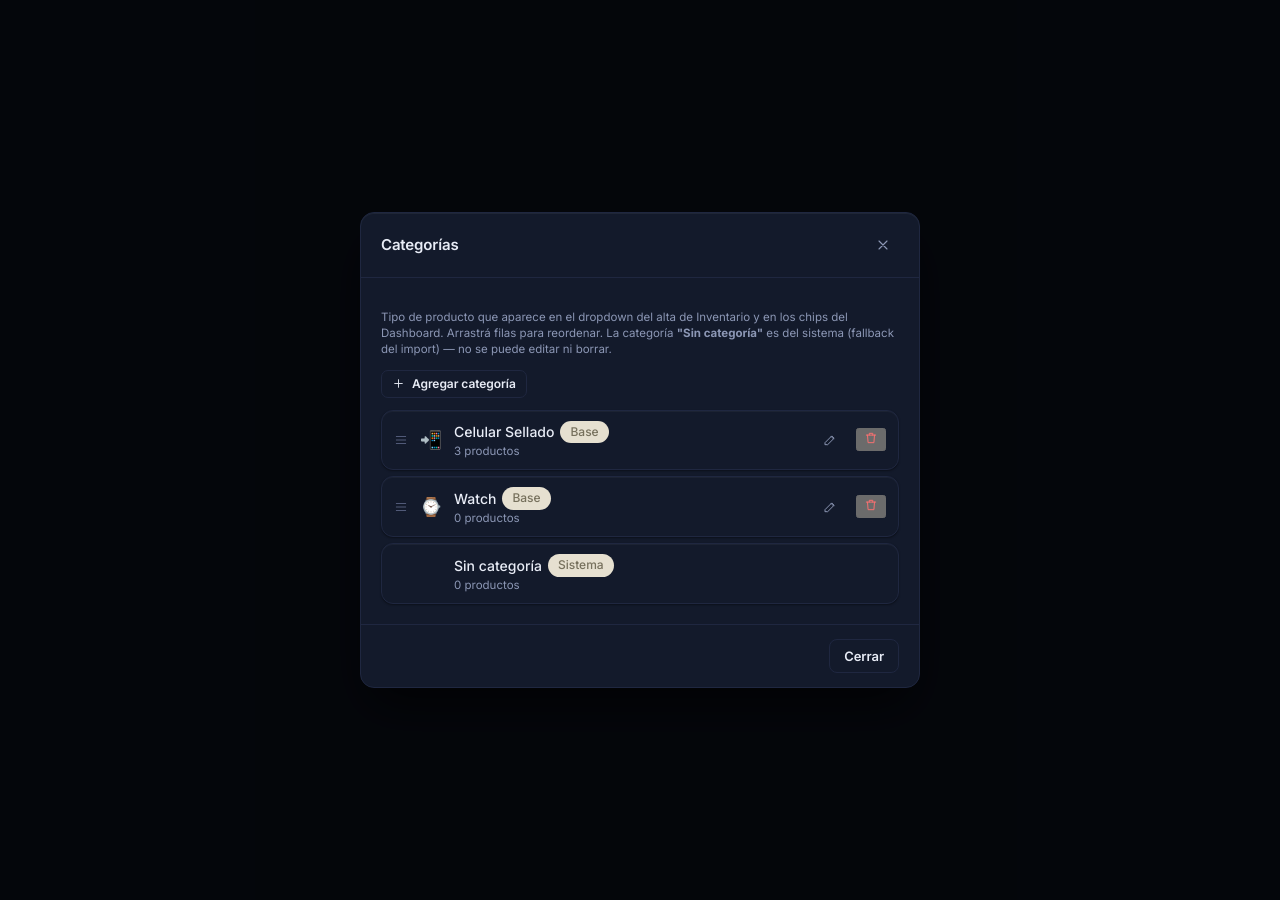
CategoriasProductoModal › click "Agregar categoría" abre el modal secundario vacío
The width and height of the screenshot is (1280, 900).
Expected: the text "Celular Sellado" is shown, [454,422,554,442]
Click the button "Agregar categoría" at (454, 384), box [381,370,527,398]
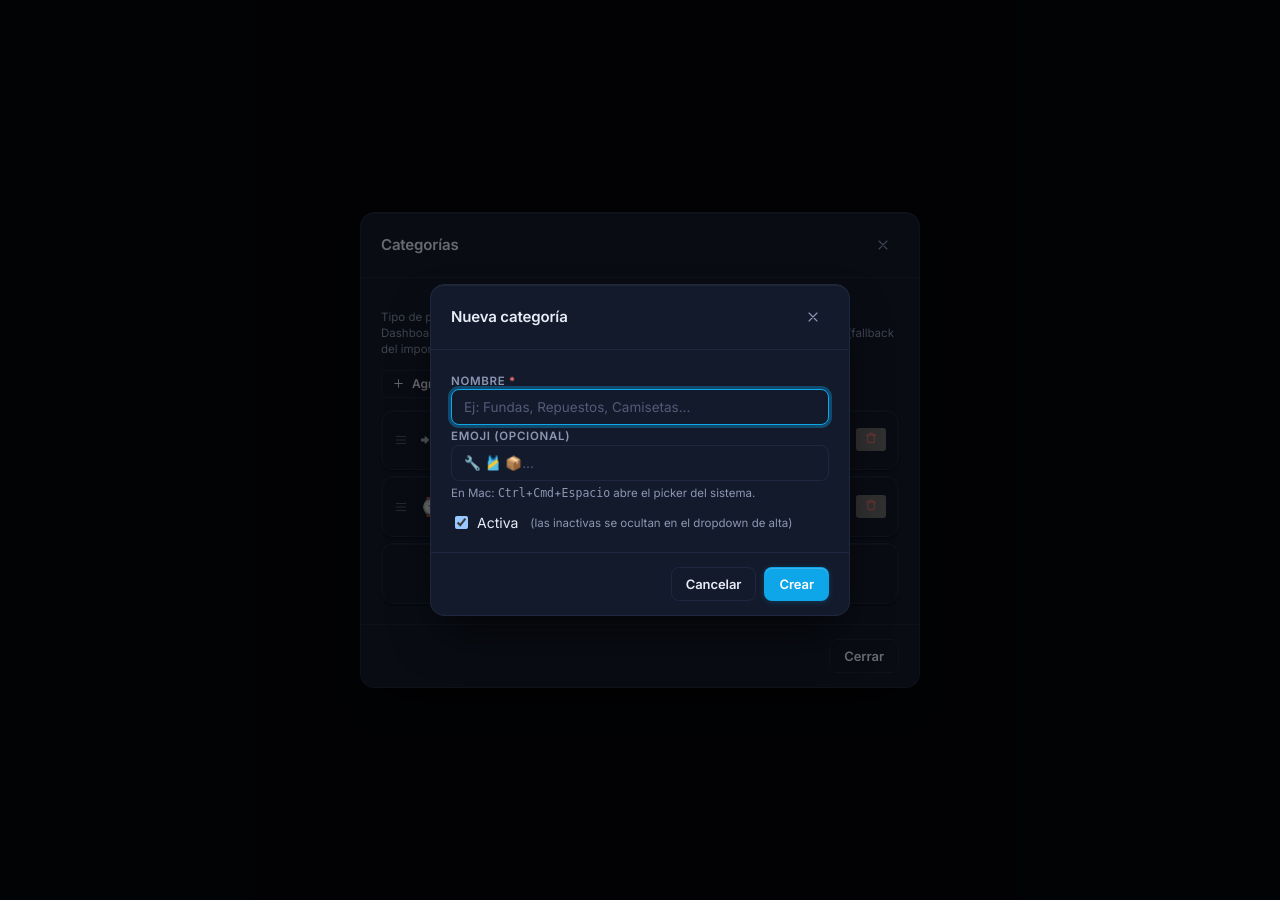
Expected: the heading "Nueva categoría" is shown, [451,306,568,327]
Expected: the field labelled "Nombre *" is empty, [451,389,829,425]
